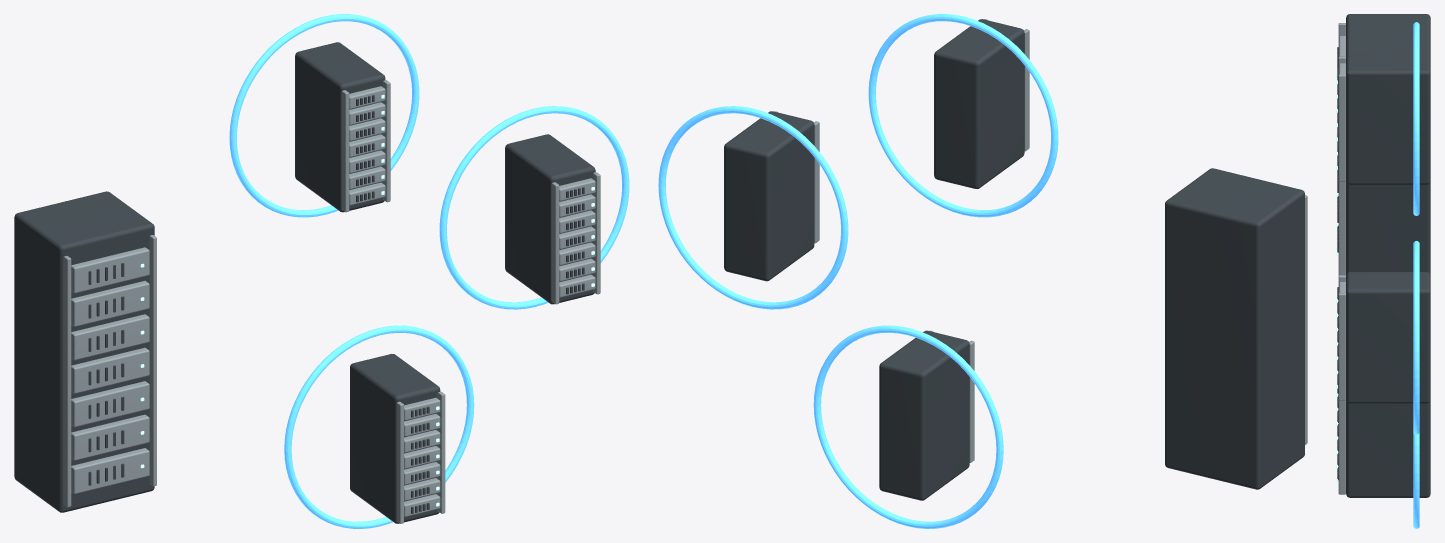
The model's file is multicloud.glb.
The picture shows the model from 3 angles, left to right: view 1: azimuth 30°, elevation 25°; view 2: azimuth 150°, elevation 25°; view 3: azimuth 270°, elevation 25°; orthographic projection. The views are drawn at different scales.
Parts seen in each view (by area): view 1: Rack chassis, Rack chassis.001, Rack chassis.003, Rack chassis.002, Cloud boundary.001, Cloud boundary, Cloud boundary.002, Rack rail, Server sled.005, Server sled, Server sled.001, Server sled.003 (+10 smaller); view 2: Rack chassis, Rack chassis.003, Rack chassis.001, Rack chassis.002, Cloud boundary.001, Cloud boundary.002, Cloud boundary, Rack rail; view 3: Rack chassis.001, Rack chassis.002, Rack chassis, Rack chassis.003, Cloud boundary, Cloud boundary.001, Rack rail.003, Rack rail.005, Rack rail.001, Rack rail.007, Cloud boundary.002, Server sled.006.
Part boxes in pixels (box(x1,y1,x2,y2)): Rack chassis: box(14, 191, 154, 512); Rack chassis.001: box(295, 42, 385, 212); Rack chassis.003: box(350, 354, 440, 523); Rack chassis.002: box(505, 134, 595, 304); Cloud boundary.001: box(439, 106, 629, 309); Cloud boundary: box(229, 14, 419, 217); Cloud boundary.002: box(284, 325, 474, 528); Rack rail: box(63, 256, 71, 507); Server sled.005: box(71, 280, 149, 326); Server sled: box(71, 448, 149, 493); Server sled.001: box(71, 414, 149, 460); Server sled.003: box(71, 347, 149, 393); Rack chassis: box(1165, 168, 1304, 489); Rack chassis.003: box(879, 330, 969, 500); Rack chassis.001: box(934, 19, 1024, 188); Rack chassis.002: box(724, 111, 814, 281); Cloud boundary.001: box(658, 106, 848, 309); Cloud boundary.002: box(813, 325, 1003, 528); Cloud boundary: box(868, 14, 1058, 217); Rack rail: box(1305, 195, 1307, 444); Rack chassis.001: box(1346, 53, 1430, 184); Rack chassis.002: box(1346, 272, 1430, 403); Rack chassis: box(1346, 14, 1430, 275); Rack chassis.003: box(1346, 400, 1430, 497); Cloud boundary: box(1413, 22, 1419, 215); Cloud boundary.001: box(1413, 241, 1419, 434); Rack rail.003: box(1338, 74, 1345, 181); Rack rail.005: box(1338, 293, 1345, 400); Rack rail.001: box(1338, 181, 1345, 275); Rack rail.007: box(1338, 400, 1345, 494); Cloud boundary.002: box(1413, 433, 1419, 528); Server sled.006: box(1339, 36, 1345, 56).
Size of the model in its own units: 6.66 by 5.47 by 1.
